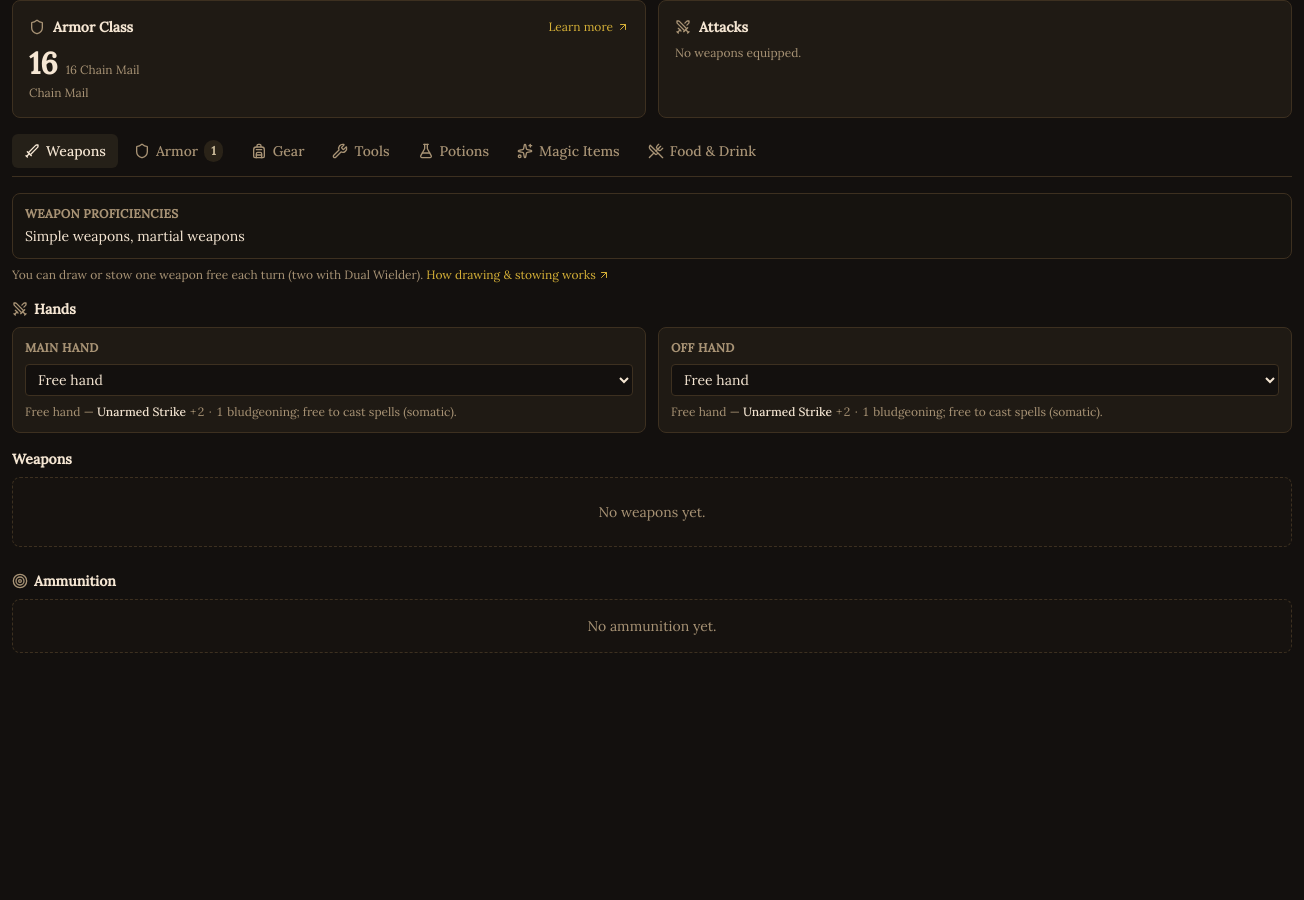
Test case: InventoryTab › warns on an equipped armor row when the Strength requirement is unmet
This screenshot has width=1304, height=900.
What coordinates should you click on to do the following:
click the button with test id "inv-category-armor"
I would click on:
 (178, 151)
Its box is 122,134 -> 235,168.
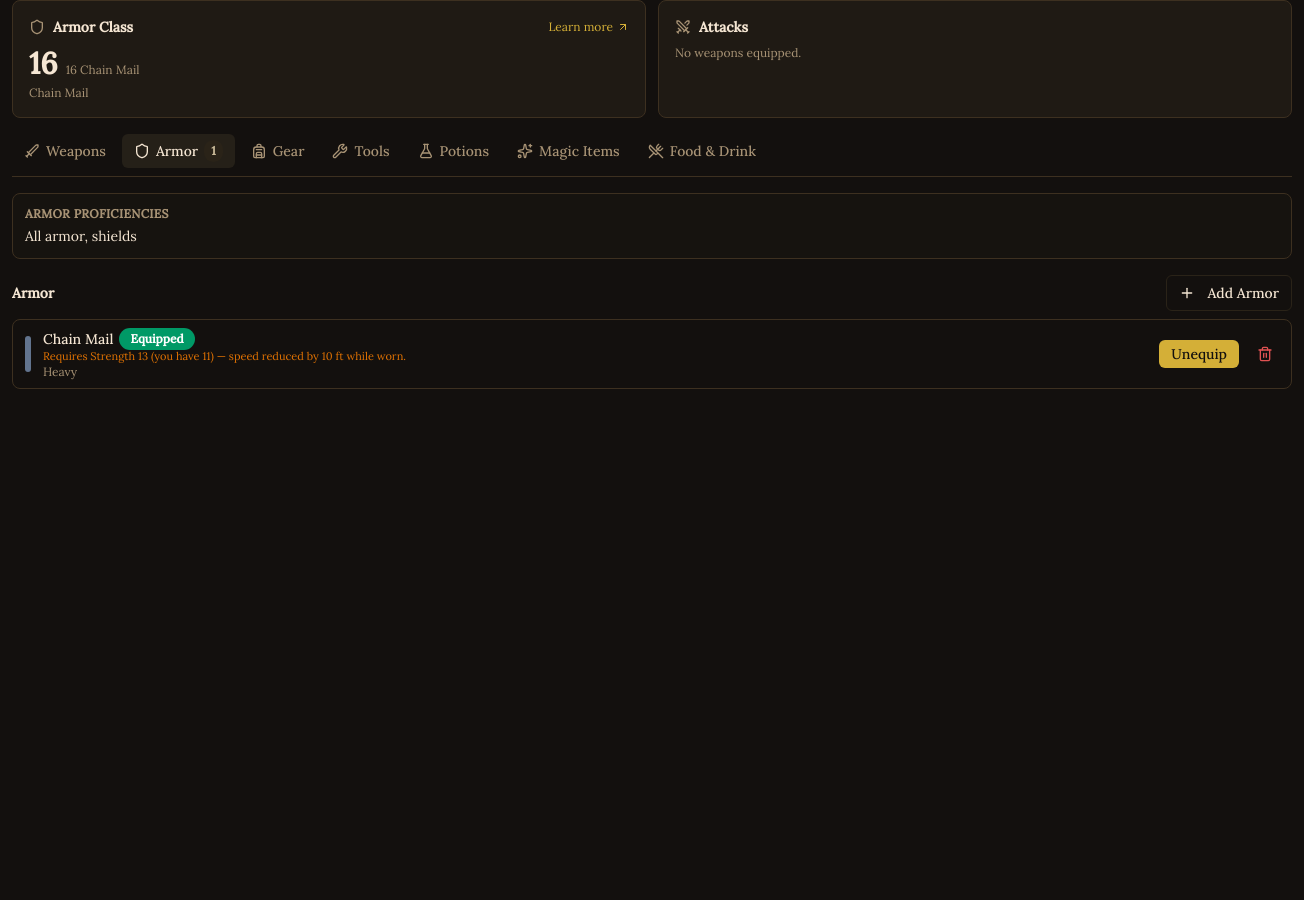
Check: the text with test id "inv-str-warning-arm1" reads "Requires Strength 13 (you have 11) — speed reduced by 10 ft while worn.", box 43,349 -> 406,363
